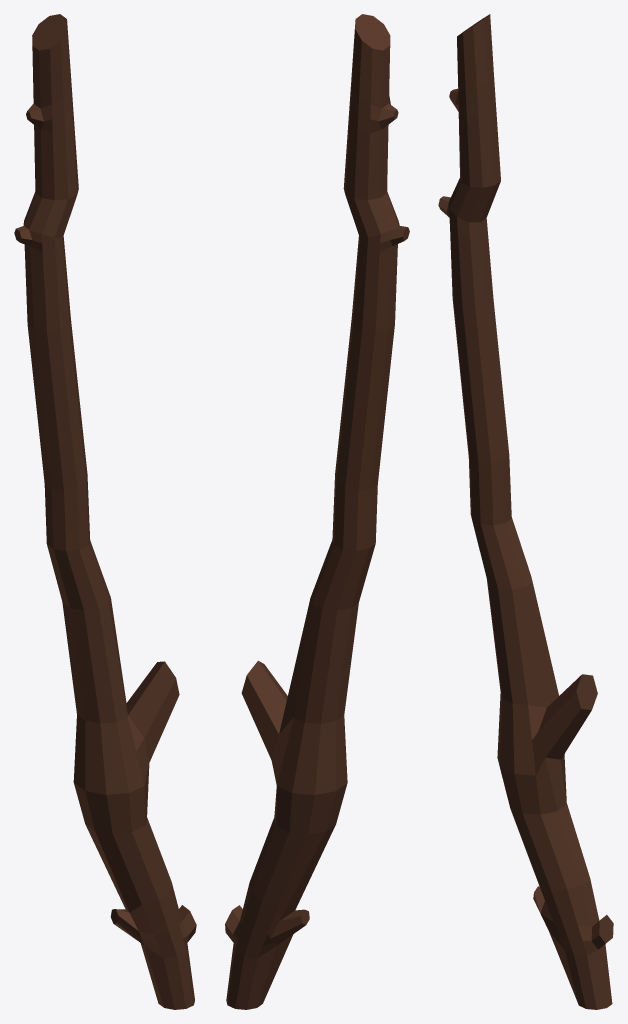
File: stickREEE.fbx
3 views of the same model, side by side, from view 1: azimuth 30°, elevation 25°; view 2: azimuth 150°, elevation 25°; view 3: azimuth 330°, elevation 25° (orthographic). The views are drawn at different scales.
Parts seen in each view (by area): view 1: Cylinder; view 2: Cylinder; view 3: Cylinder.
Part boxes in pixels (x1,y1,x2,y2): Cylinder: (14, 14, 196, 1009); Cylinder: (225, 14, 409, 1009); Cylinder: (438, 14, 613, 1009).
Size of the model in its own units: 0.1092 by 0.601 by 0.0403.
